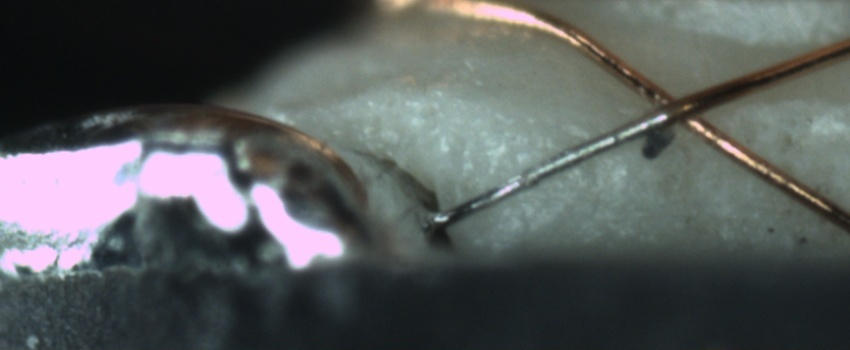CL: (629, 75, 726, 143)
TS: (432, 110, 669, 226)
